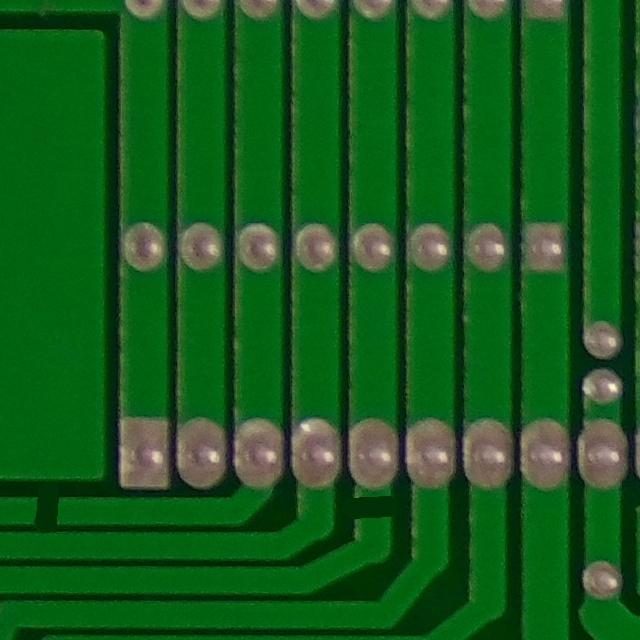open_circuit: (10, 481, 71, 539), (346, 481, 402, 530)
